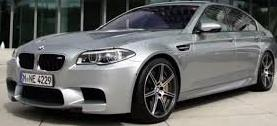Cars: (7, 3, 276, 123)
